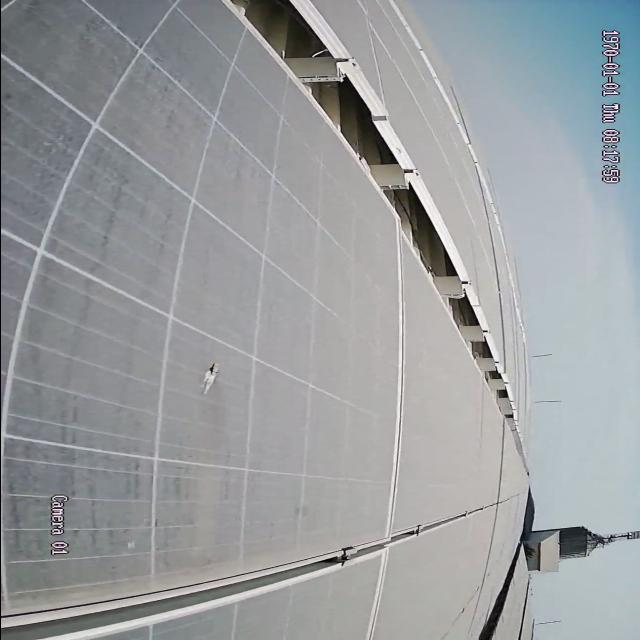interior panel: (7, 498, 505, 638), (359, 245, 407, 638)
outher panel: (224, 1, 518, 429), (474, 560, 518, 638)
